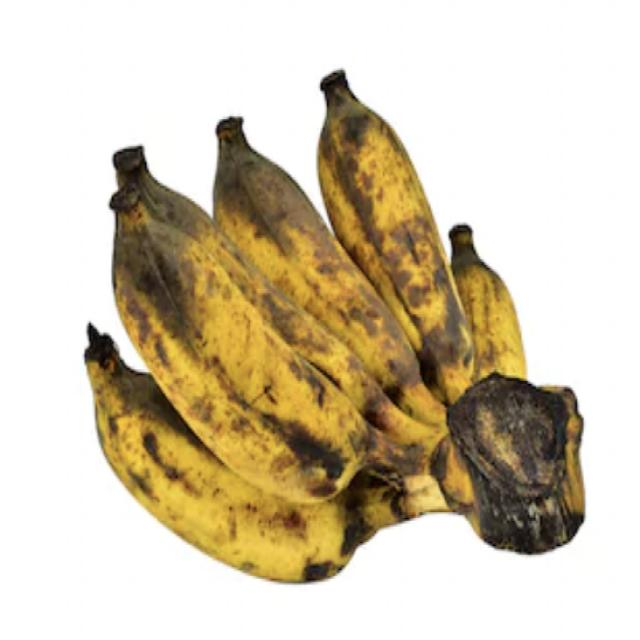rotten-banana: (131, 230, 340, 484), (101, 370, 257, 590), (252, 118, 362, 423), (354, 75, 448, 400), (452, 237, 530, 377)
